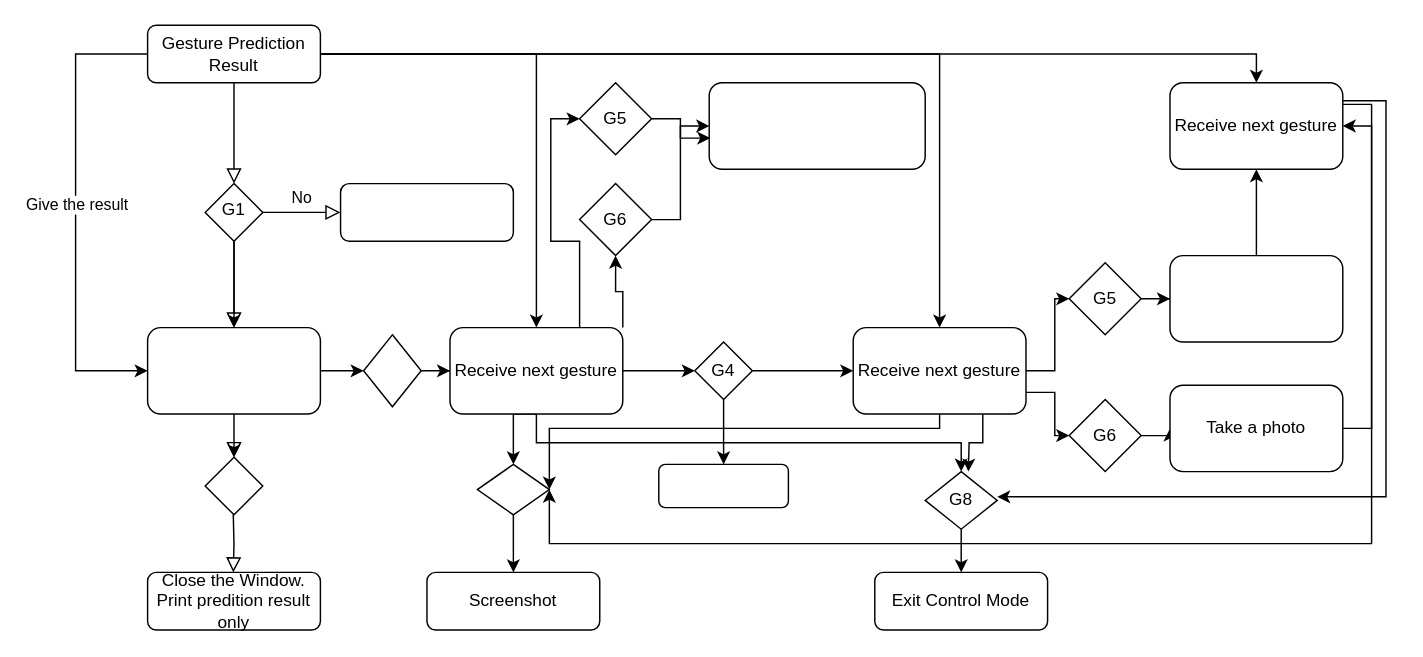
This 1423x657 diagram has some shape labels left out. The box of each missing label's shape, as (x1, y1, x2, y2) in pixels:
A Window to make sure start control mode: (146, 326, 320, 414)
close the camera: (1169, 254, 1343, 342)
G2: (362, 333, 421, 407)
G3: (204, 456, 263, 515)
G7: (476, 463, 549, 515)
Open Camera: (657, 463, 788, 508)
Print predition result only: (339, 182, 513, 241)
You cannot do anyting on camera before opening it. Print predition result only: (708, 81, 925, 169)
